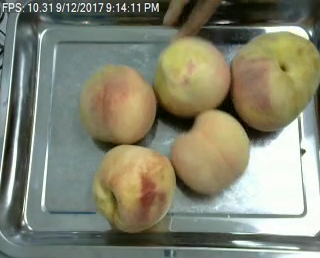Peach: (230, 29, 318, 132), (93, 144, 176, 233), (170, 110, 252, 194), (79, 63, 156, 144), (153, 36, 230, 116)
